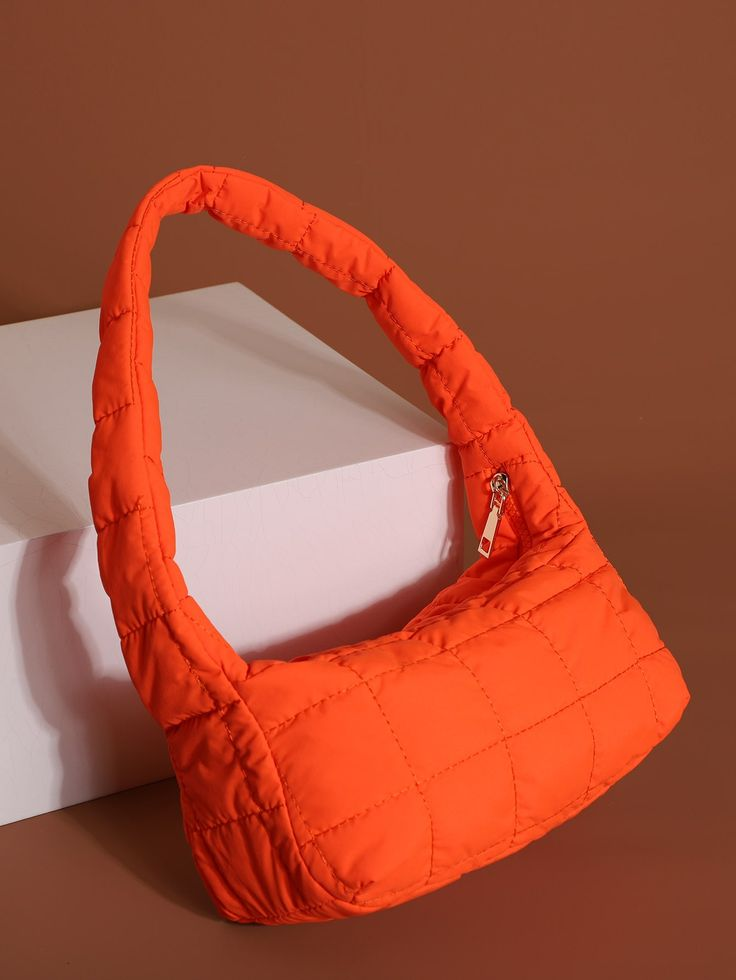nylon: (89, 163, 691, 926)
